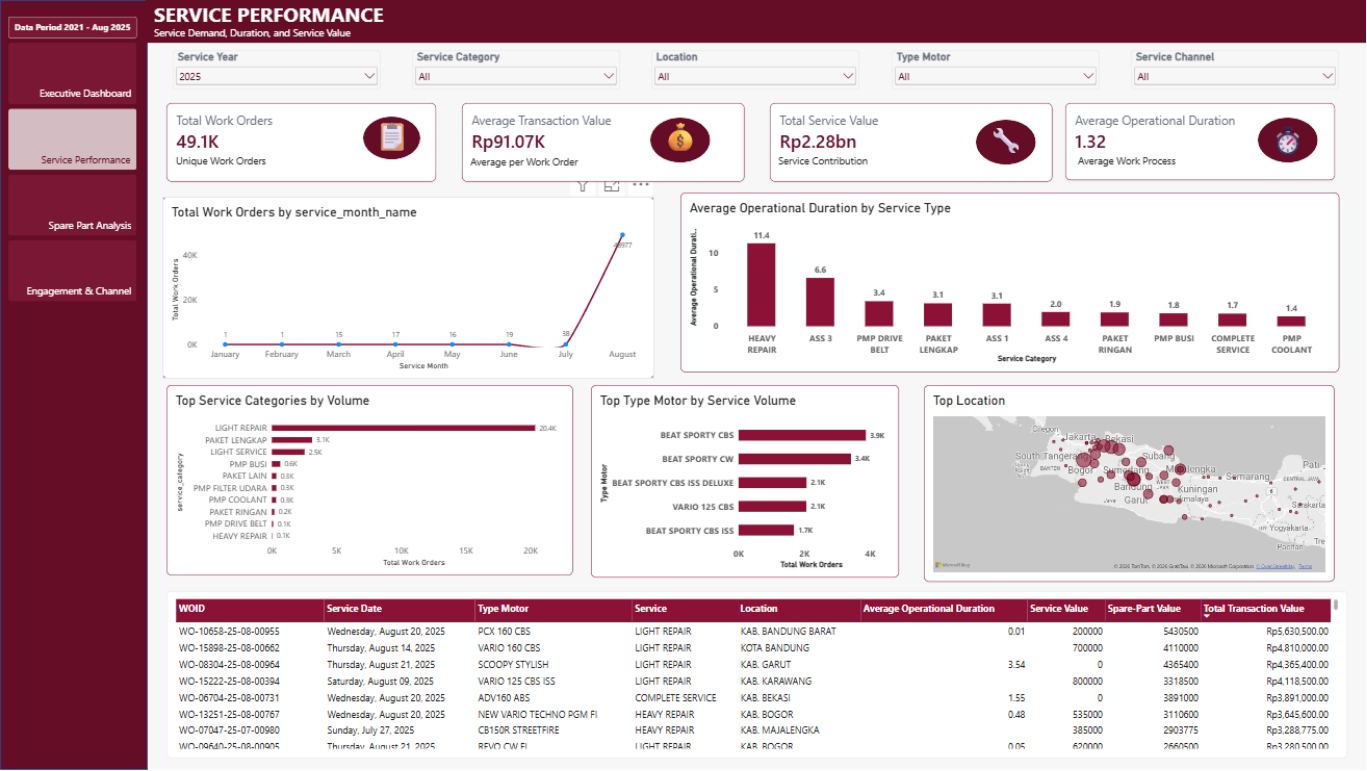

The dashboard page shown, as its layout file describes it:
{"tool":"powerbi","page":{"name":"Service Performance","canvas":[2560,1440],"ordinal":1},"visuals":[{"type":"shape","box":[0,0,276.1,1439.1],"z":0},{"type":"pageNavigator","box":[16,80,240,608],"z":1000},{"type":"clusteredBarChart","title":"Top Service Categories by Volume","fields":{"Category":["Fact_Work_Order.service_category"],"Y":["Fact_Work_Order.Total Work Orders"]},"box":[312,720,760,356],"z":2000},{"type":"lineChart","fields":{"Category":["Fact_Work_Order.service_month_name"],"Y":["Fact_Work_Order.Total Work Orders"]},"box":[304,368,920.1,340.4],"z":3000},{"type":"cardVisual","title":"Total Work Order","fields":{"Data":["Fact_Work_Order.Total Service Value"]},"box":[1440,192,528,147],"z":4000,"group":"g2"},{"type":"tableEx","title":"Service Performance Details","fields":{"Values":["Fact_Work_Order.woid","Fact_Work_Order.service_date","Fact_Work_Order.type_motor","Fact_Work_Order.service_category","Fact_Work_Order.location","Fact_Work_Order.Average Operational Duration","Sum(Fact_Work_Order.total_njb)","Sum(Fact_Work_Order.total_nsc)","Fact_Work_Order.Total Transaction Value"]},"box":[312,1104,2208,312],"z":4000},{"type":"shape","box":[272,0,2288,80],"z":5000},{"type":"clusteredColumnChart","title":"Average Operational Duration by Service Type","fields":{"Category":["Fact_Work_Order.service_category"],"Y":["Avg(Fact_Work_Order.operational_duration_hours)"]},"box":[1272,360,1232,336],"z":6000},{"type":"slicer","fields":{"Values":["Fact_Work_Order.service_year"]},"box":[323,94,389.1,73.9],"z":7000},{"type":"slicer","fields":{"Values":["Fact_Work_Order.service_category"]},"box":[770.7,94,389.1,73.9],"z":8000},{"type":"slicer","fields":{"Values":["Fact_Work_Order.location"]},"box":[1218.5,94,389.1,73.9],"z":9000},{"type":"slicer","fields":{"Values":["Fact_Work_Order.type_motor"]},"box":[1666.2,94,389.1,73.9],"z":10000},{"type":"slicer","fields":{"Values":["Fact_Work_Order.service_channel"]},"box":[2114,94,389.1,73.9],"z":11000},{"type":"textbox","box":[288,0,752,80],"z":12000},{"type":"group","id":"g1","title":"Group 1","box":[16,32,240,32],"z":13000},{"type":"barChart","title":"Top Type Motor by Service Volume","fields":{"Category":["Fact_Work_Order.type_motor"],"Y":["Fact_Work_Order.Total Work Orders"]},"box":[1104,720,576,360],"z":14000},{"type":"map","title":"Top Location ","fields":{"Category":["Fact_Work_Order.location"],"Size":["Fact_Work_Order.Total Work Orders"]},"box":[1728,720,768,368],"z":15000},{"type":"cardVisual","title":"Total Work Order","fields":{"Data":["Fact_Work_Order.Average Transaction Value"]},"box":[864,192,528,147],"z":16000},{"type":"cardVisual","title":"Total Work Order","fields":{"Data":["Fact_Work_Order.Total Work Orders"]},"box":[312,192,504,147],"z":17000},{"type":"textbox","box":[880,290,304,28],"z":18000},{"type":"cardVisual","fields":{"Data":["Fact_Work_Order.Average Operational Duration"]},"box":[1992,192,504,144],"z":19000},{"type":"group","id":"g2","title":"Group 4","box":[1440,192,528,147],"z":20000},{"type":"textbox","box":[328,288,352,32],"z":21000},{"type":"shape","box":[16,32,240,40],"z":22000,"group":"g1"},{"type":"shape","box":[1216,220,112,84],"z":22000},{"type":"textbox","box":[16,40,240,24],"z":23000,"group":"g1"},{"type":"shape","box":[2352,220,112,84],"z":23000},{"type":"textbox","box":[2016,288,224,32],"z":24000},{"type":"group","id":"g3","title":"Group 3","box":[678.5,218.7,106.9,80.2],"z":25000},{"type":"textbox","box":[1824,224,112,80],"z":26000},{"type":"textbox","box":[680,216,104,80],"z":27000},{"type":"shape","box":[678.5,218.7,106.9,80.2],"z":27000,"group":"g3"},{"type":"textbox","box":[1216,216,112,88],"z":28000},{"type":"textbox","box":[2352,224,112,80],"z":29000},{"type":"shape","box":[1824,224,112,84],"z":30000},{"type":"textbox","box":[1456,288,224,32],"z":31000},{"type":"textbox","box":[1824,224,112,88],"z":32000}]}

Visuals, with their boxes on the page's 2560x1440 design canvas (x1, y1, x2, y2). These are canvas units, not pixel positions in the 1367x771 screenshot, which may show the page scaled, cropped or inside an application window:
shape: 0, 0, 276, 1439
pageNavigator: 16, 80, 256, 688
"Top Service Categories by Volume" clusteredBarChart: 312, 720, 1072, 1076
lineChart - Fact_Work_Order.service_month_name x Fact_Work_Order.Total Work Orders: 304, 368, 1224, 708
"Total Work Order" cardVisual: 1440, 192, 1968, 339
"Service Performance Details" tableEx: 312, 1104, 2520, 1416
shape: 272, 0, 2560, 80
"Average Operational Duration by Service Type" clusteredColumnChart: 1272, 360, 2504, 696
slicer - Fact_Work_Order.service_year: 323, 94, 712, 168
slicer - Fact_Work_Order.service_category: 771, 94, 1160, 168
slicer - Fact_Work_Order.location: 1218, 94, 1608, 168
slicer - Fact_Work_Order.type_motor: 1666, 94, 2055, 168
slicer - Fact_Work_Order.service_channel: 2114, 94, 2503, 168
textbox: 288, 0, 1040, 80
"Group 1" group: 16, 32, 256, 64
"Top Type Motor by Service Volume" barChart: 1104, 720, 1680, 1080
"Top Location " map: 1728, 720, 2496, 1088
"Total Work Order" cardVisual: 864, 192, 1392, 339
"Total Work Order" cardVisual: 312, 192, 816, 339
textbox: 880, 290, 1184, 318
cardVisual - Fact_Work_Order.Average Operational Duration: 1992, 192, 2496, 336
"Group 4" group: 1440, 192, 1968, 339
textbox: 328, 288, 680, 320
shape: 16, 32, 256, 72
shape: 1216, 220, 1328, 304
textbox: 16, 40, 256, 64
shape: 2352, 220, 2464, 304
textbox: 2016, 288, 2240, 320
"Group 3" group: 678, 219, 785, 299
textbox: 1824, 224, 1936, 304
textbox: 680, 216, 784, 296
shape: 678, 219, 785, 299
textbox: 1216, 216, 1328, 304
textbox: 2352, 224, 2464, 304
shape: 1824, 224, 1936, 308
textbox: 1456, 288, 1680, 320
textbox: 1824, 224, 1936, 312
